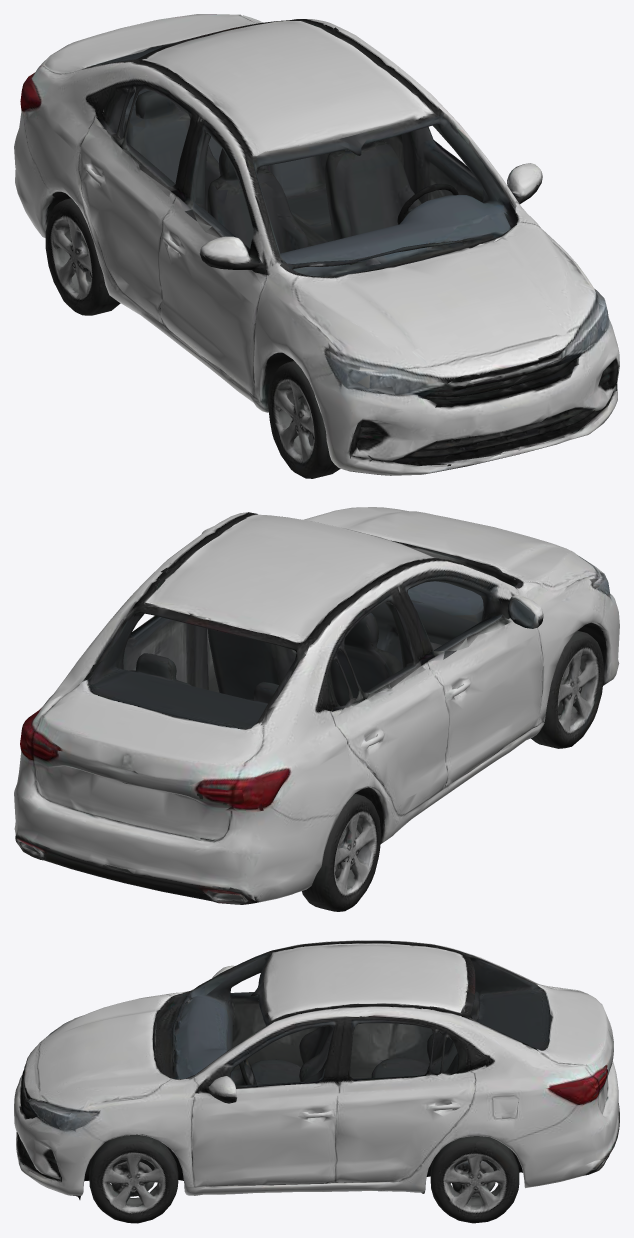
Rendered from sedan.glb.
The picture shows the model from 3 angles, top to bottom: view 1: azimuth 30°, elevation 25°; view 2: azimuth 150°, elevation 25°; view 3: azimuth 270°, elevation 25°; orthographic projection. The views are drawn at different scales.
Visible parts, largest first — view 1: sedan; view 2: sedan; view 3: sedan.
Boxes of the visible parts, x1,y1,x2,y2 form: sedan: (14, 14, 619, 478); sedan: (14, 507, 619, 911); sedan: (14, 940, 619, 1223).
Size of the model in its own units: 2.28 by 1.69 by 4.6.
1 material, 1 textured.
